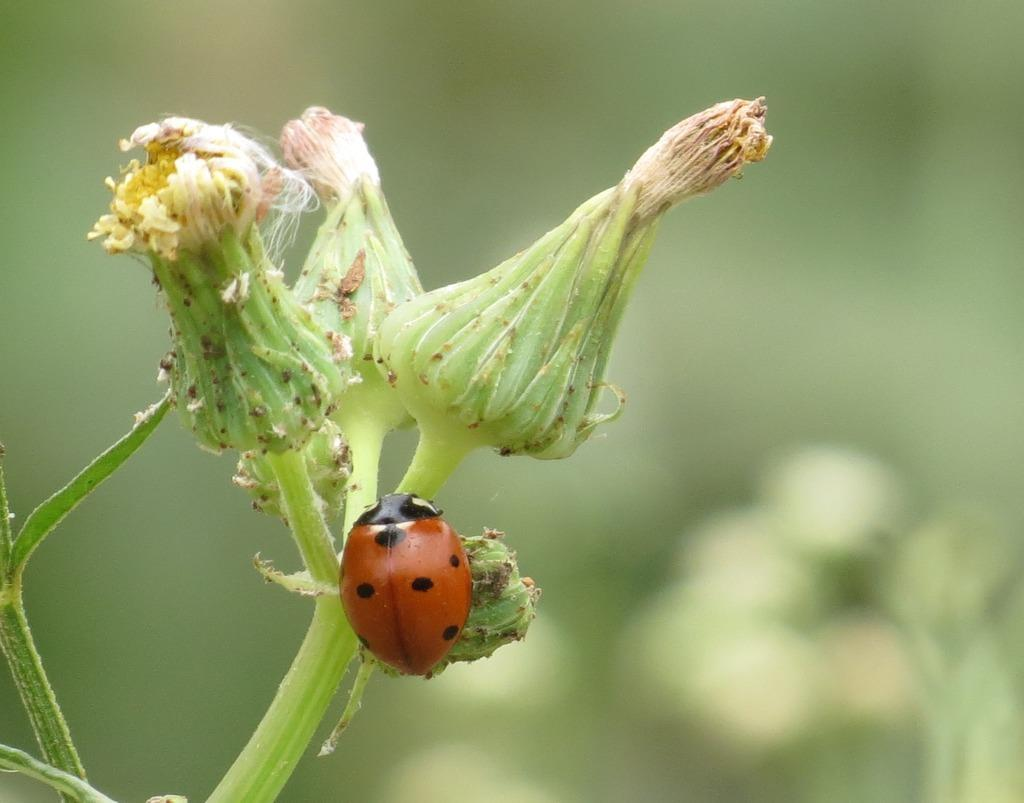ladybug: (337, 489, 479, 679)
